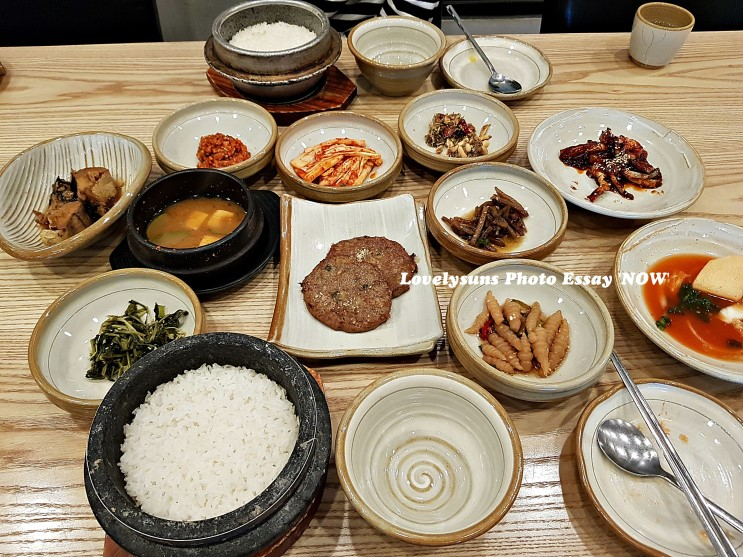ssalbab: (118, 360, 304, 524), (228, 19, 318, 53)
